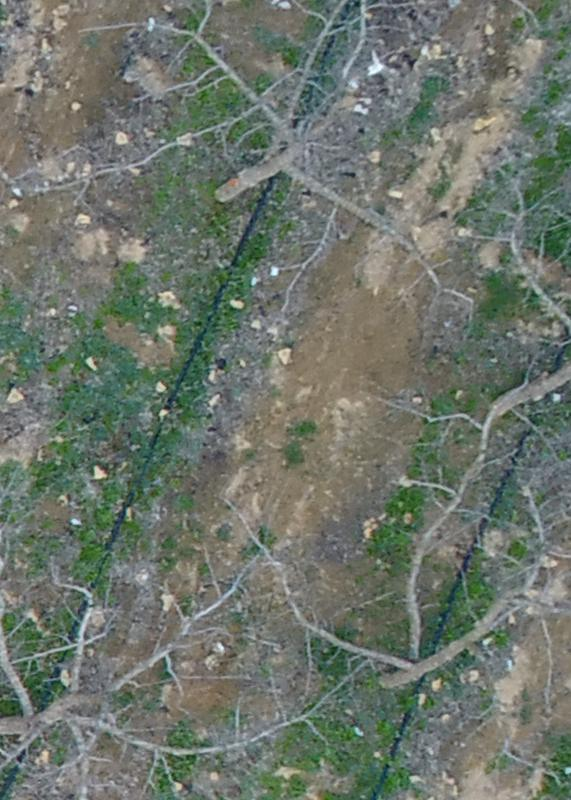apple: (231, 345, 561, 739), (95, 10, 482, 320), (10, 483, 366, 790)
